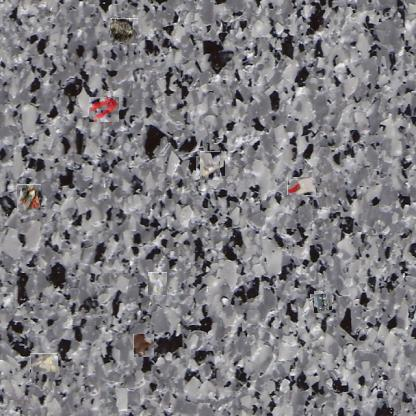dirty: (111, 18, 138, 44), (17, 184, 41, 211), (198, 154, 223, 178), (30, 353, 58, 372), (287, 177, 316, 195), (147, 272, 167, 295), (312, 292, 330, 312)
liquid: (90, 95, 118, 123), (133, 333, 154, 357)
